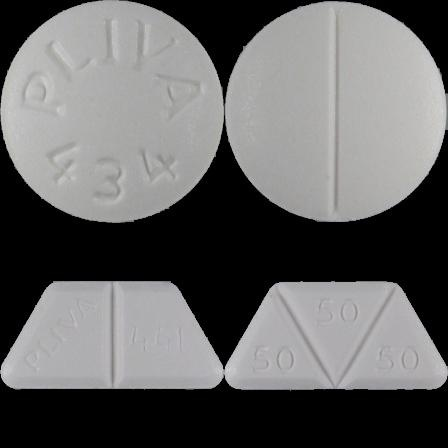50111-434: (0, 0, 224, 224)
